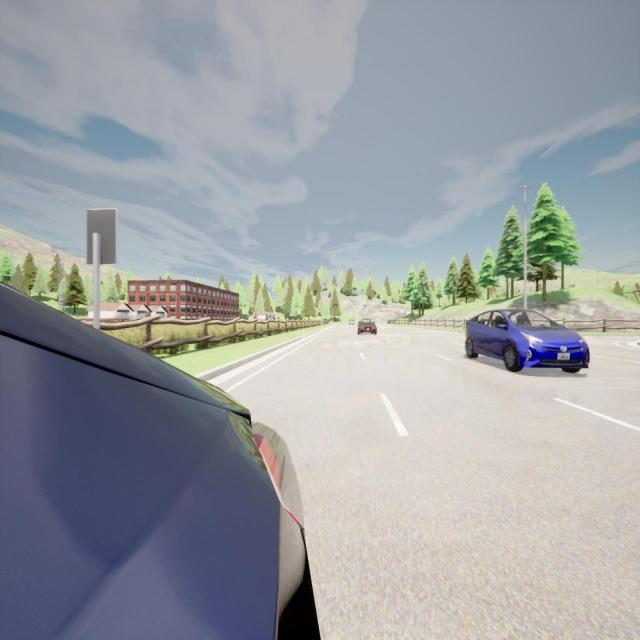Traffic_Signs: (88, 211, 116, 263)
Vehicle: (0, 284, 320, 638), (465, 309, 589, 373), (358, 318, 377, 337), (349, 318, 355, 326)
